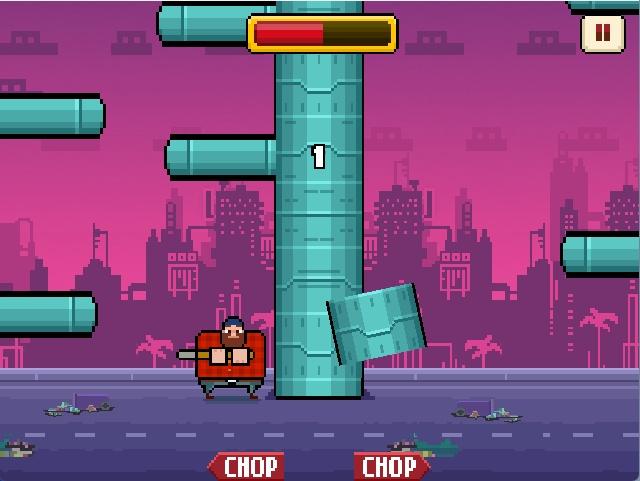left_obs: (162, 129, 282, 187)
timberman: (172, 311, 270, 405)
